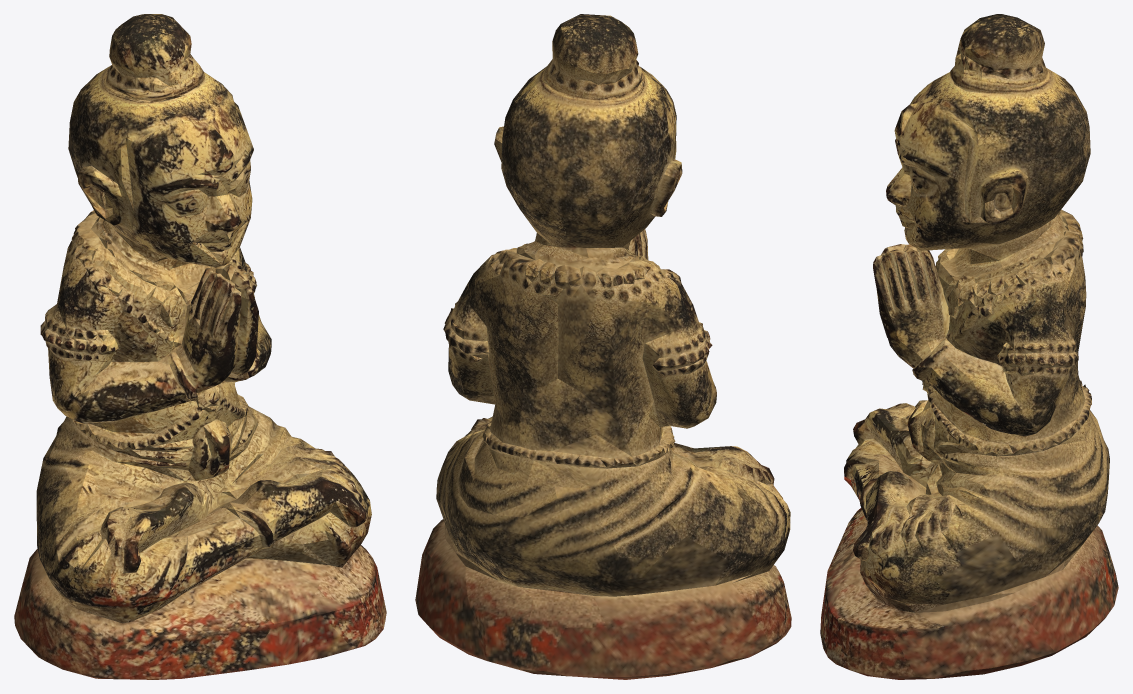
File: remeshed-kuman.glb
The picture shows the model from 3 angles, left to right: view 1: azimuth 30°, elevation 25°; view 2: azimuth 150°, elevation 25°; view 3: azimuth 270°, elevation 25°; orthographic projection. The views are drawn at different scales.
Parts seen in each view (by area): view 1: output_unwrapped; view 2: output_unwrapped; view 3: output_unwrapped.
Part boxes in pixels (x1,y1,x2,y2): output_unwrapped: (14,14,386,679); output_unwrapped: (415,14,791,679); output_unwrapped: (820,14,1118,679).
Bounding box in the file's own units: 1.1 × 1.9 × 0.8852.
Materials: 1 (1 with a texture image).
